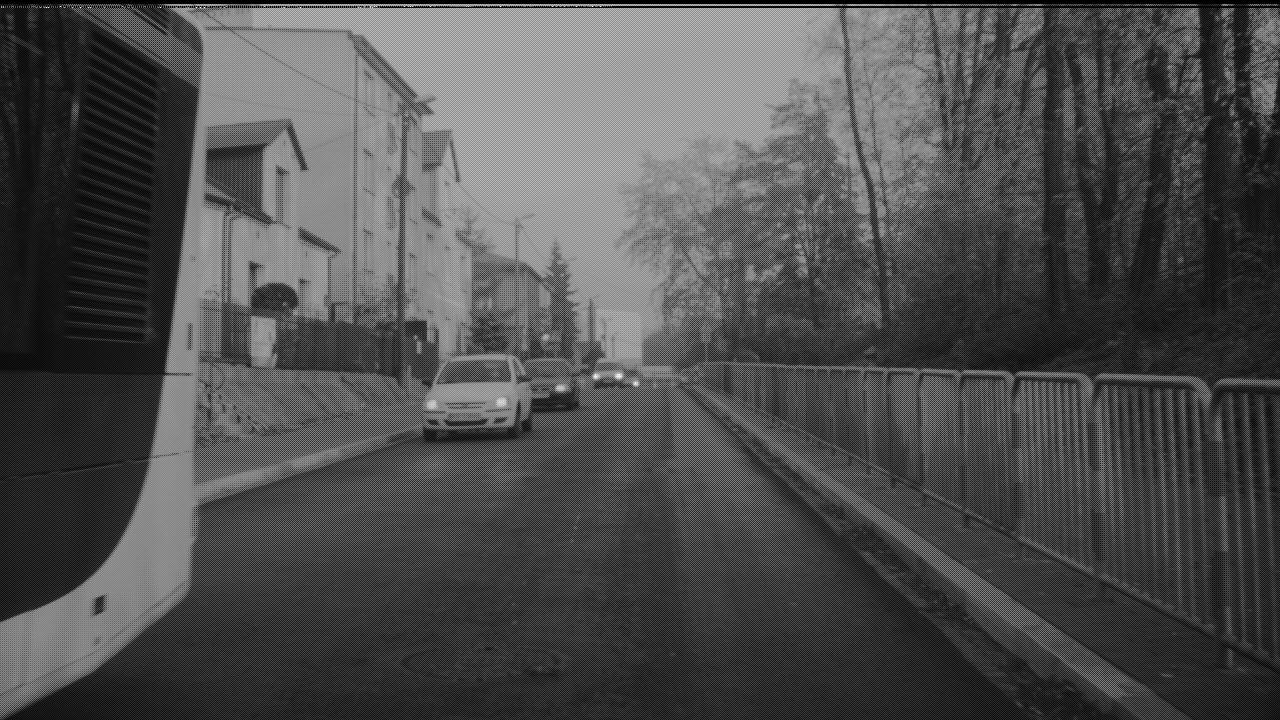pole: (397, 102, 407, 383), (513, 215, 521, 346)
